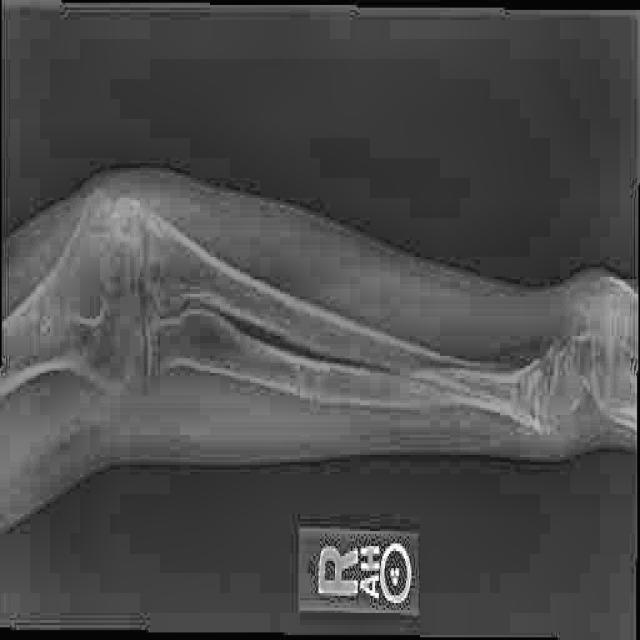forearm fracture: (404, 331, 474, 433), (284, 338, 347, 442)
